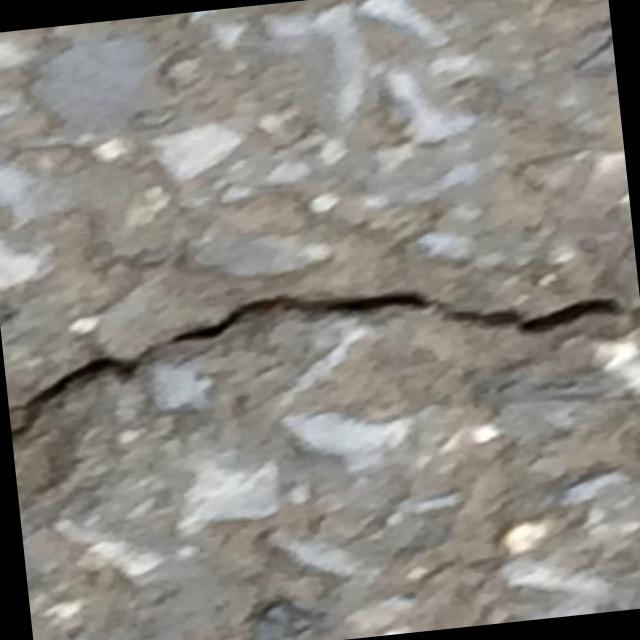crack: (5, 247, 633, 443)
